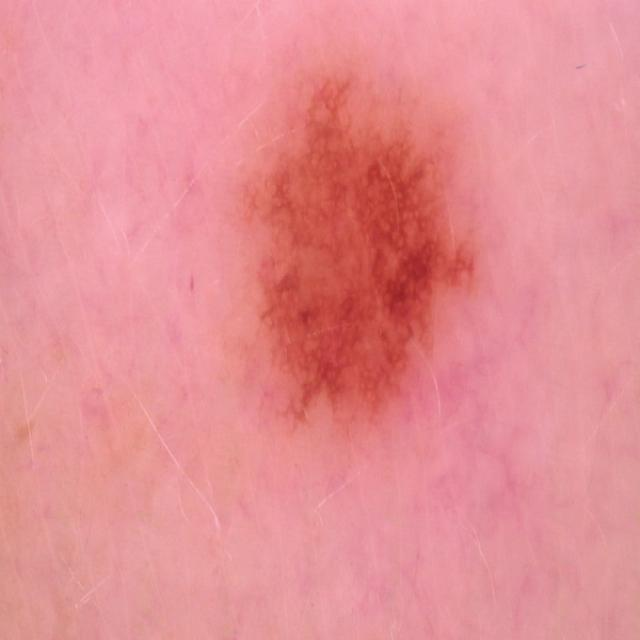NV: (220, 57, 484, 442)
